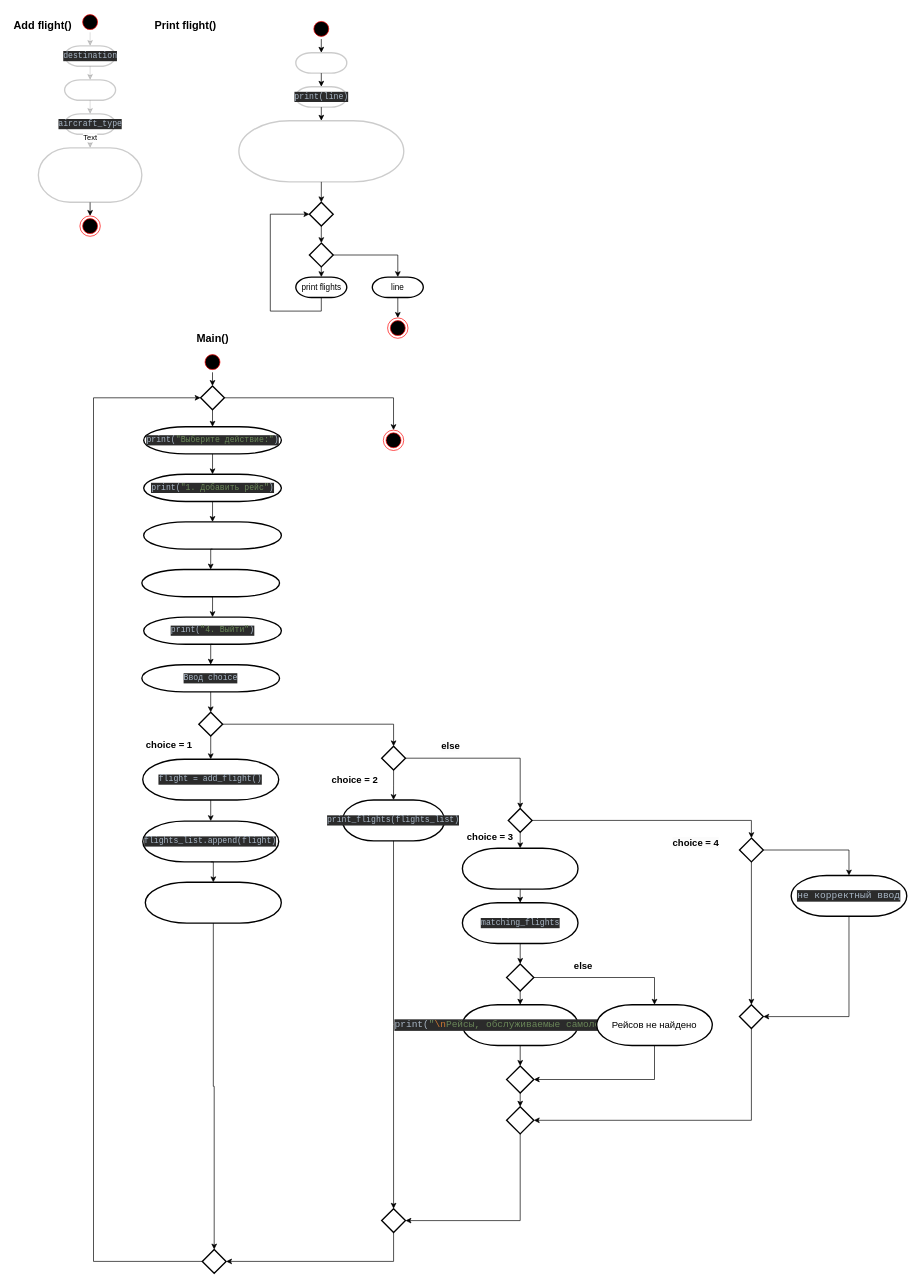
Image size: 919x1286. Some labels were removed from this diagram. Here are the shapes that lost their labels. From the top down, the centre of each, then its label:
[321,62]: line = " "
[90,90]: flight_number
[321,151]: print "Название пункта назначения" , "Номер рейса" , "Тип самолета"
[89,175]: return destination flight_number aircraft_type
[212,535]: print( "2. Вывести список рейсов" )
[210,582]: print( "3. Поиск рейсов по типу самолета" )
[519,868]: search_aircraft_type
[213,902]: flights_list.sort
